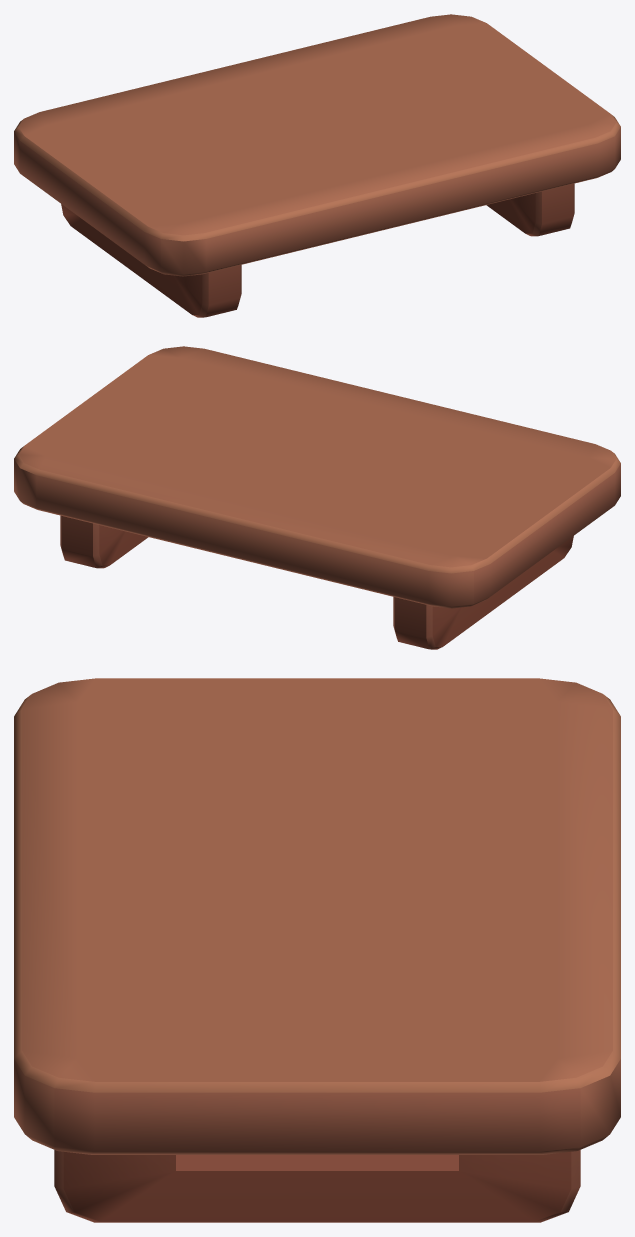
Rendered from table_low.obj.
3 renders of one model, top to bottom at view 1: azimuth 30°, elevation 25°; view 2: azimuth 150°, elevation 25°; view 3: azimuth 270°, elevation 25°, orthographic. The views are drawn at different scales.
Parts seen in each view (by area): view 1: table_low_Cube.030; view 2: table_low_Cube.030; view 3: table_low_Cube.030.
Part boxes in pixels (x1=…): table_low_Cube.030: x1=14, y1=14, x2=620, y2=317; table_low_Cube.030: x1=14, y1=346, x2=620, y2=649; table_low_Cube.030: x1=14, y1=678, x2=620, y2=1222.
Bounding box in the file's own units: 2.4 × 0.5 × 1.5.
Materials: 1 (1 with a texture image).
